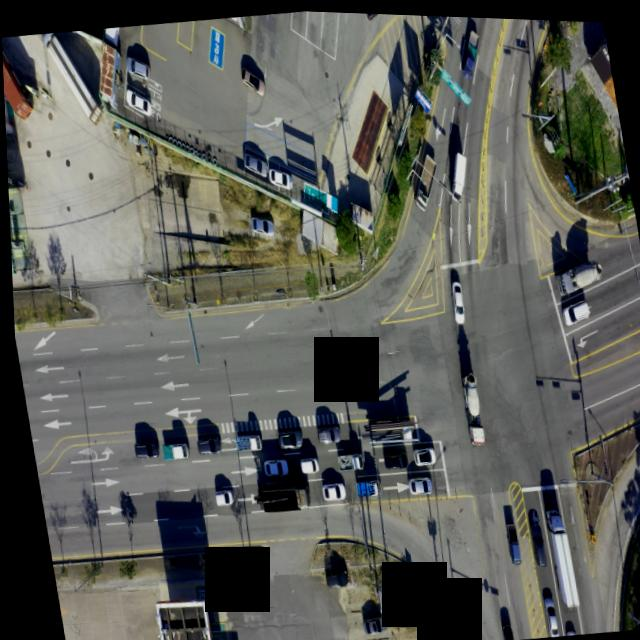car: (238, 61, 268, 97), (557, 292, 589, 322), (121, 84, 149, 117), (524, 520, 543, 561), (124, 51, 150, 79), (240, 148, 266, 176), (448, 277, 464, 321), (265, 164, 292, 190), (538, 591, 554, 633), (272, 425, 298, 448), (126, 437, 152, 459), (259, 455, 286, 476), (249, 212, 273, 235), (318, 565, 343, 587), (311, 421, 336, 443), (191, 433, 217, 454), (401, 473, 425, 494), (377, 444, 401, 465), (317, 479, 342, 499), (408, 442, 431, 463), (357, 612, 378, 632), (295, 453, 316, 472), (208, 485, 228, 504), (495, 614, 509, 637), (558, 620, 569, 631)
medium_truck: (41, 30, 100, 131), (539, 503, 571, 605), (403, 145, 442, 208), (549, 252, 602, 295), (249, 475, 307, 514), (457, 371, 483, 443), (361, 411, 411, 442)
small_truck: (452, 28, 486, 80), (443, 143, 471, 196), (502, 524, 519, 564), (229, 430, 258, 452), (333, 447, 360, 470), (156, 439, 184, 460), (349, 473, 374, 495)
